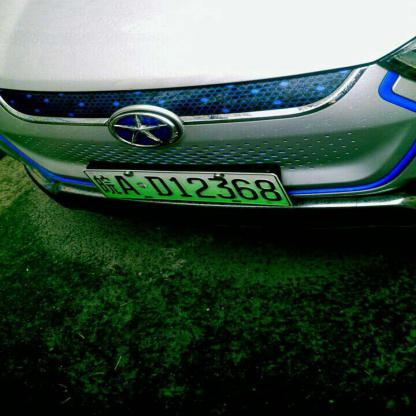lp: (84, 170, 291, 204)
